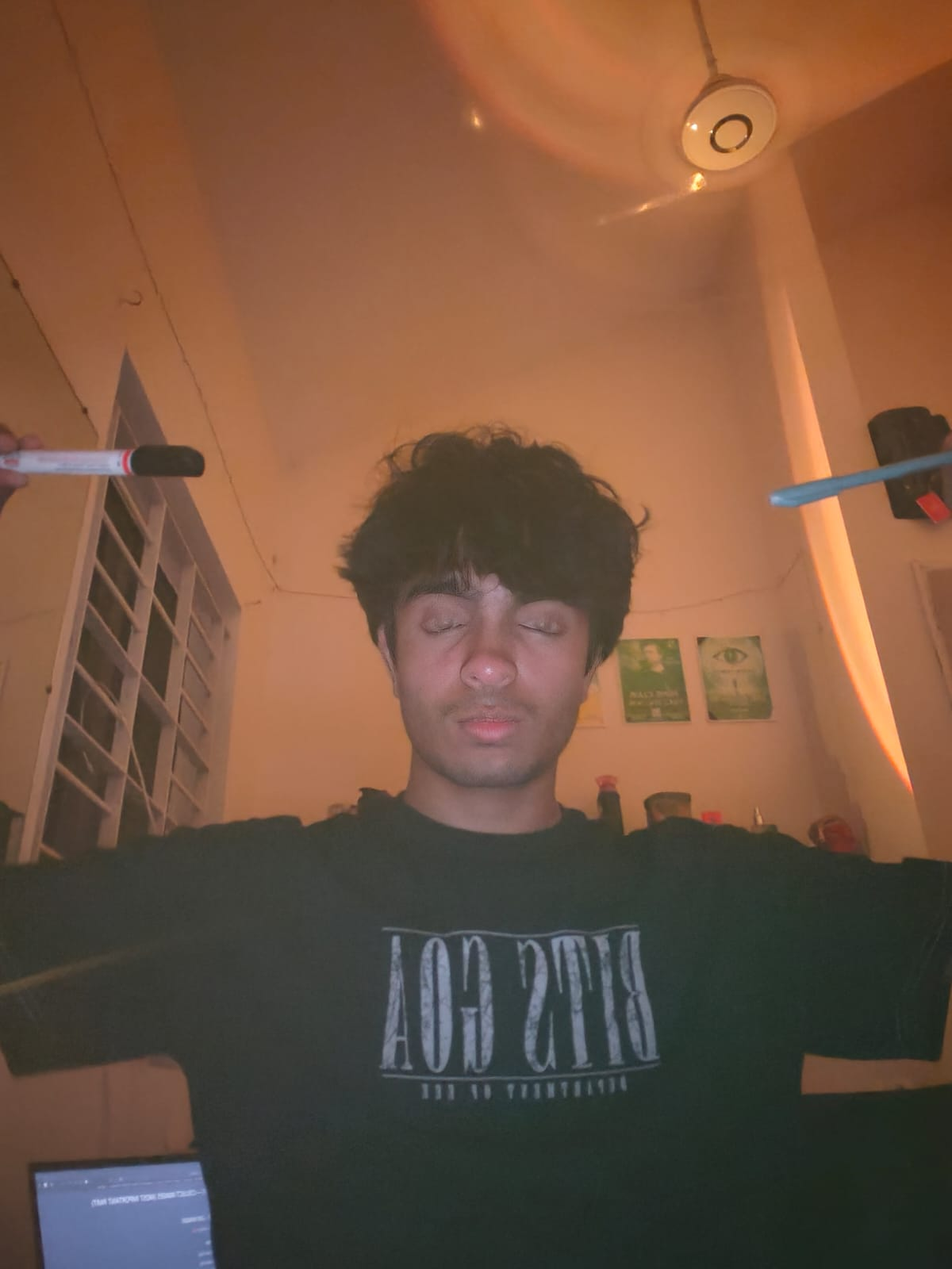case: (0, 437, 227, 500)
pen: (759, 432, 952, 543)
